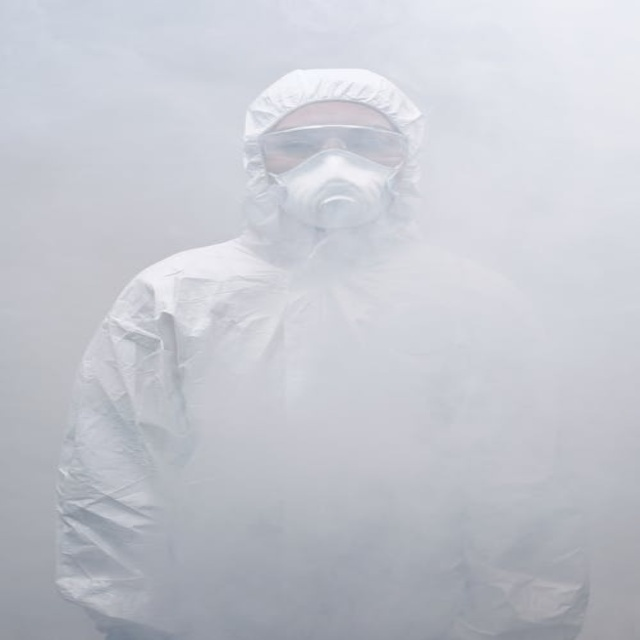Gafas: (254, 124, 410, 172)
Mascara: (263, 140, 402, 233)
Sin_gafas: (278, 141, 317, 157)
